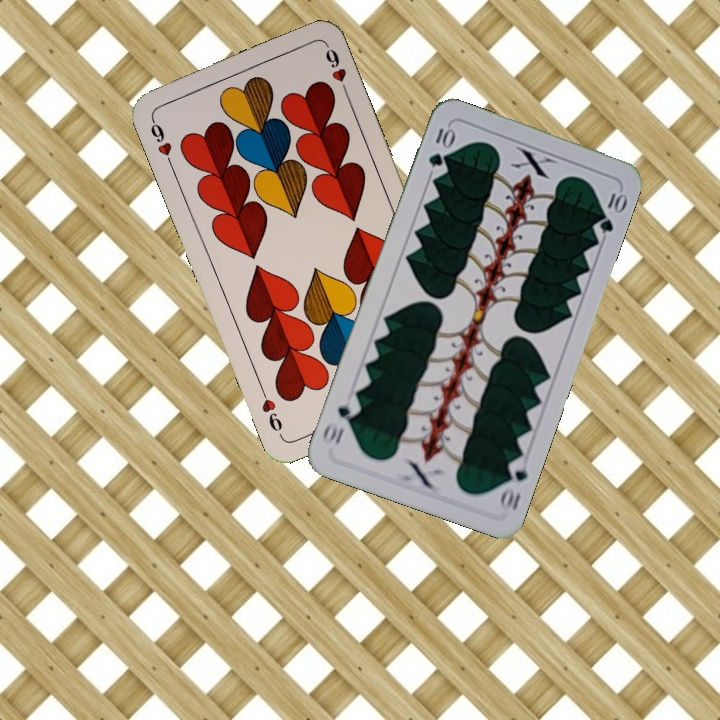G10: (495, 454, 530, 514), (424, 121, 456, 170)
H9: (146, 113, 176, 170)
